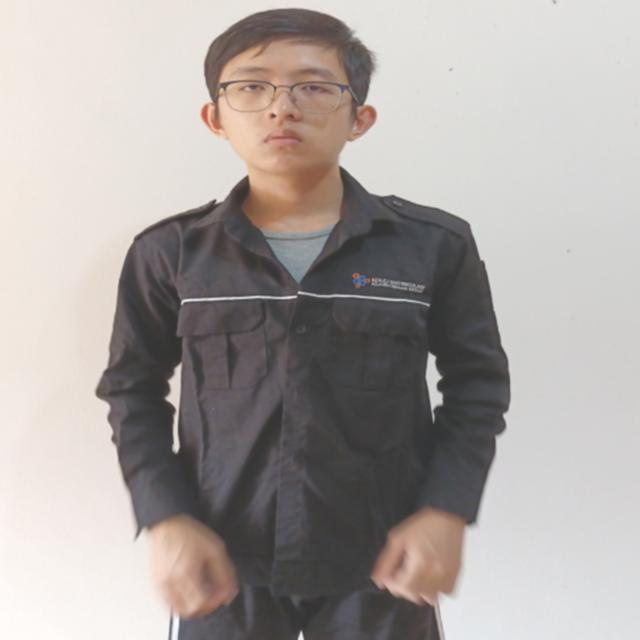person_with_labcoat: (97, 8, 510, 640)
